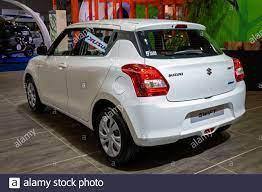Hatchback: (21, 13, 249, 166)
